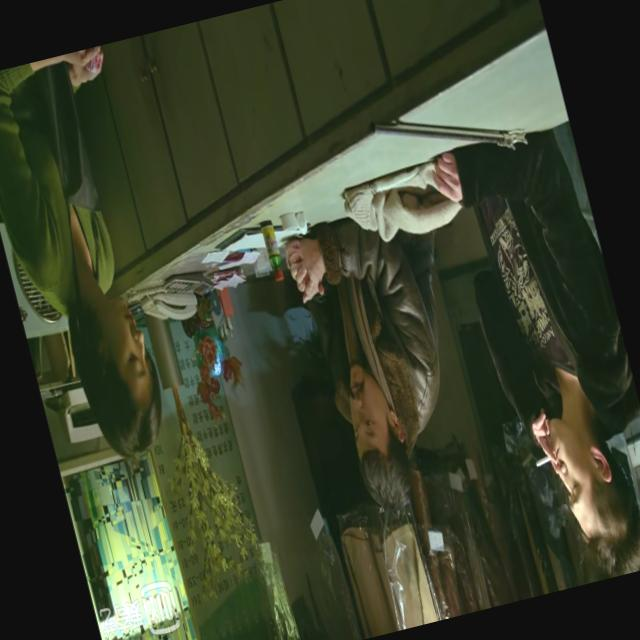cigarette: (532, 450, 556, 470)
